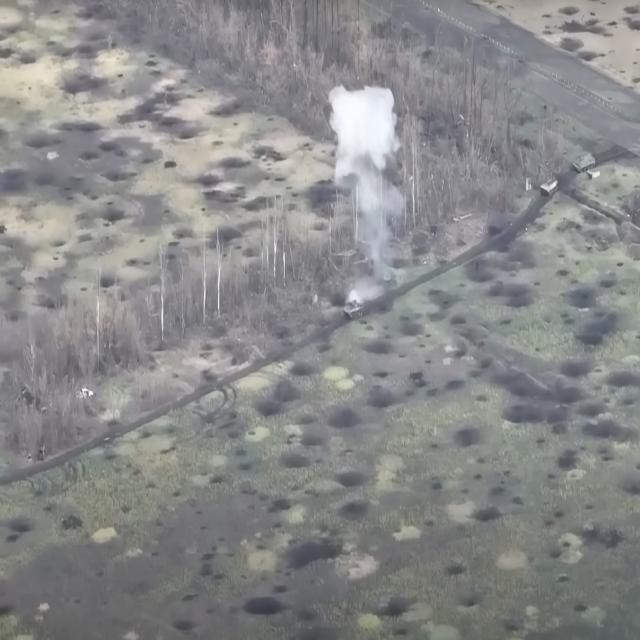AIFV: (540, 174, 560, 203), (343, 297, 365, 323)
APC: (572, 151, 597, 177)
